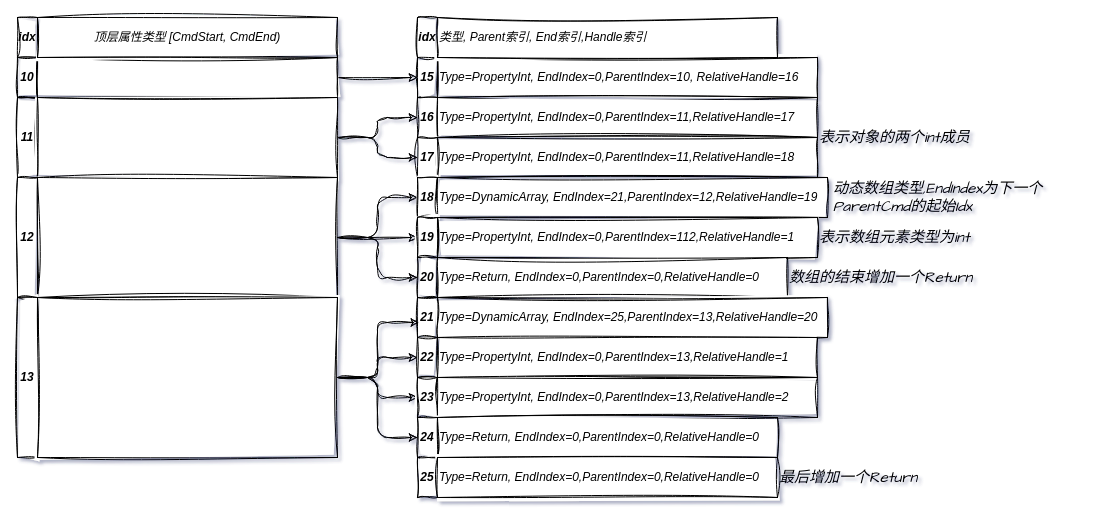
The diagram is 1105 pixels wide and 521 high, and some of its shapes have lost their labels. Here are the shapes that lost their labels. From the top down, the centre of each, then its label:
(187,77): int32 ReplicatedInt [15,16) 基础类型
(187,137): FSimpleStruct ReplicatedStruct [16,18) 对象
(187,237): TArray<int32> ReplicatedIntArray [18,21) 基础类型数组
(187,377): TArray<FSimpleStruct> ReplicatedStructArray [21,25) 对象数组
